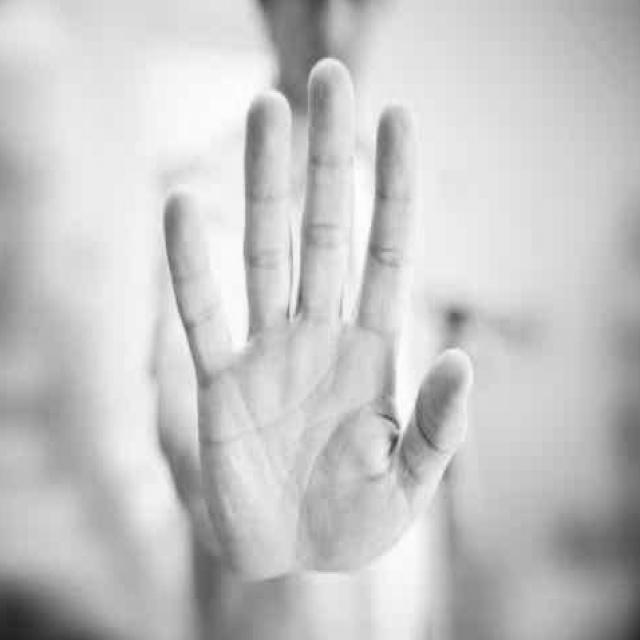stop: (157, 50, 478, 592)
